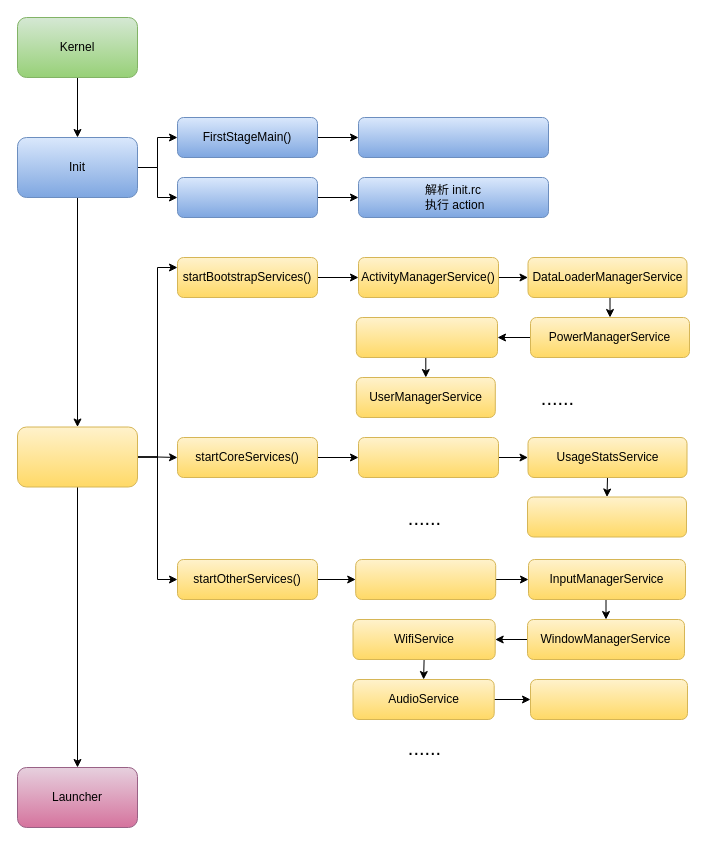
Image size: 707x845. Some labels were removed from this diagram. Each missing label, with the centre of its shape:
BatteryService: (428,457)
BugreportManagerService: (606,516)
CameraServiceProxy: (609,699)
DropBoxManagerService: (425,579)
PackageManagerService: (426,337)
SecondStageMain(): (247,197)
system_server: (77,456)
挂载分析 system/system_extvendor/data: (453,137)
